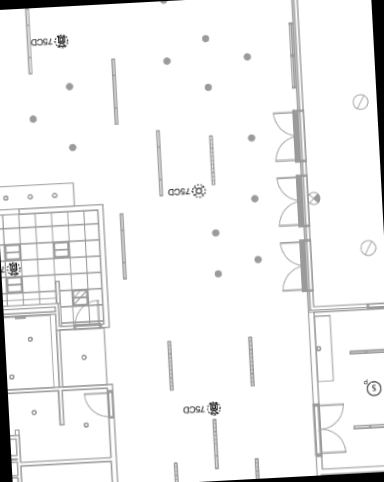door: (70, 297, 104, 330), (80, 389, 113, 422)
double door: (275, 237, 312, 294), (313, 401, 348, 457), (271, 108, 304, 165), (274, 174, 308, 229)
window: (280, 19, 304, 90)
